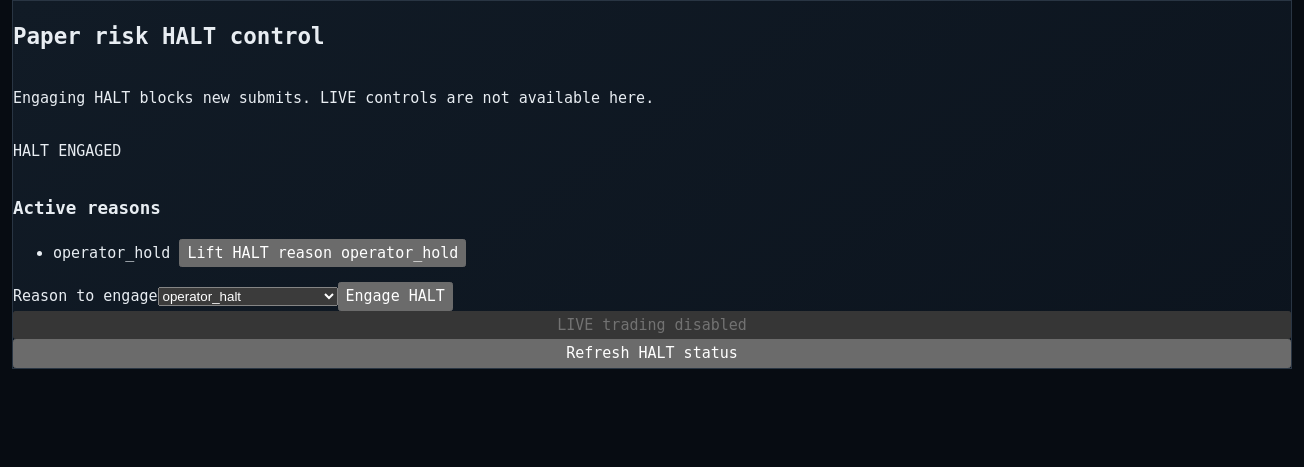
Test: PaperHaltControlView › lifts the exact active reason only
Expected: the text "HALT ENGAGED" is shown, x1=13 y1=142 x2=121 y2=160
Click the button "Lift HALT reason operator_hold".
click(323, 253)  # box x1=179 y1=238 x2=466 y2=267
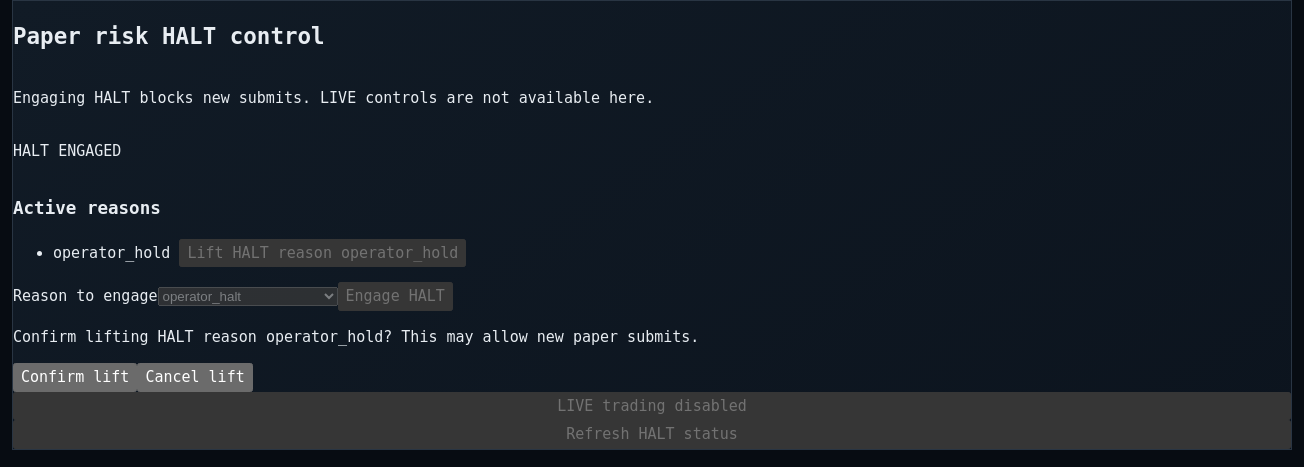
Expected: the element named "Confirm HALT lift" is shown, x1=13 y1=328 x2=699 y2=392
Click the button "Confirm lift".
click(75, 377)  # box x1=13 y1=363 x2=137 y2=392
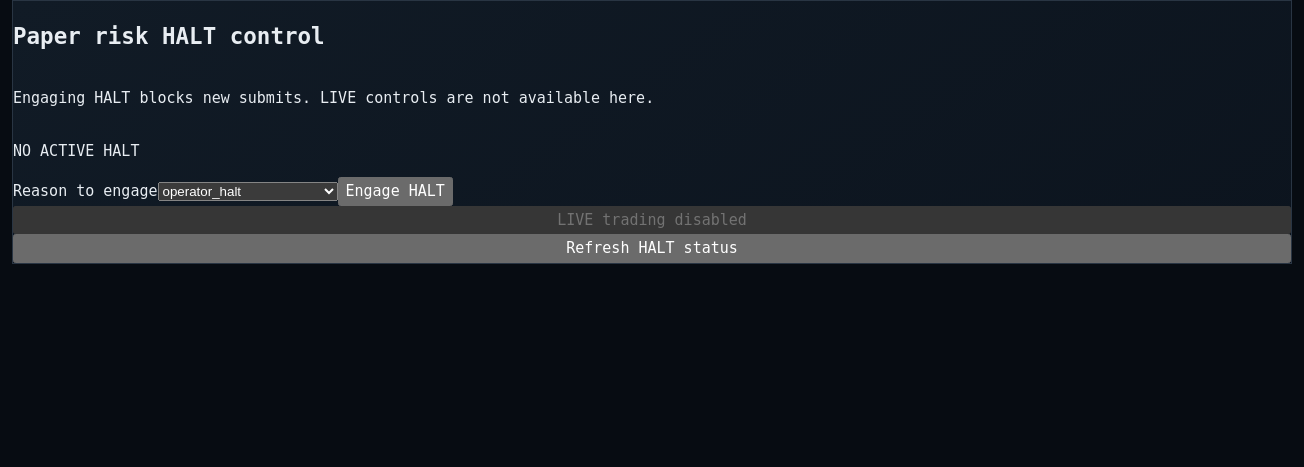
Expected: the text "NO ACTIVE HALT" is shown, x1=13 y1=142 x2=139 y2=160
